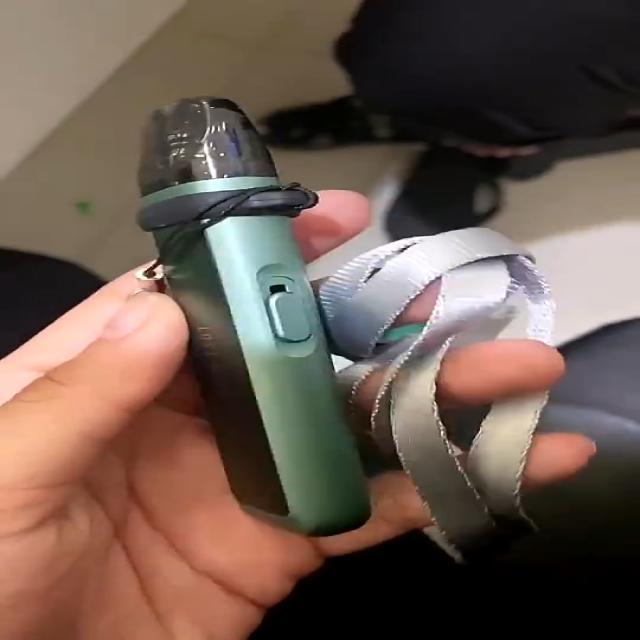Hazard: (130, 93, 377, 538)
